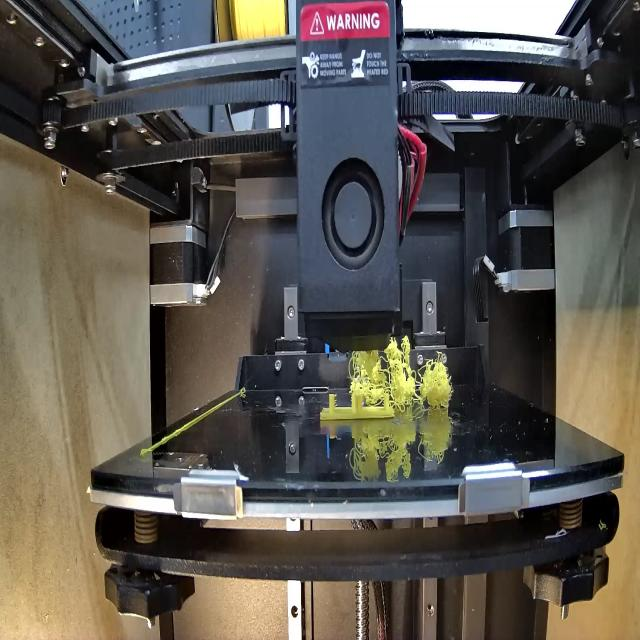spaghetti: (349, 338, 457, 402)
